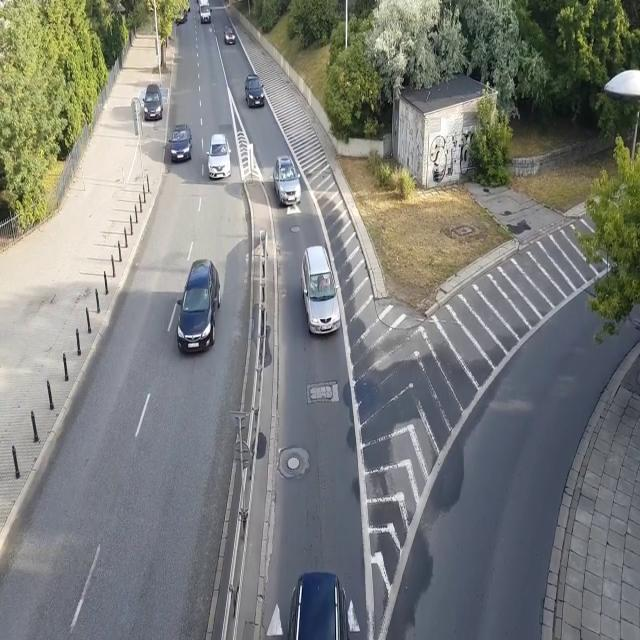car: (286, 568, 350, 640), (176, 260, 221, 354), (302, 245, 342, 336), (273, 156, 301, 204), (206, 133, 231, 180), (168, 124, 192, 162), (142, 85, 163, 121), (244, 73, 264, 108), (223, 25, 236, 45), (174, 8, 188, 25)
van: (199, 4, 212, 24)
